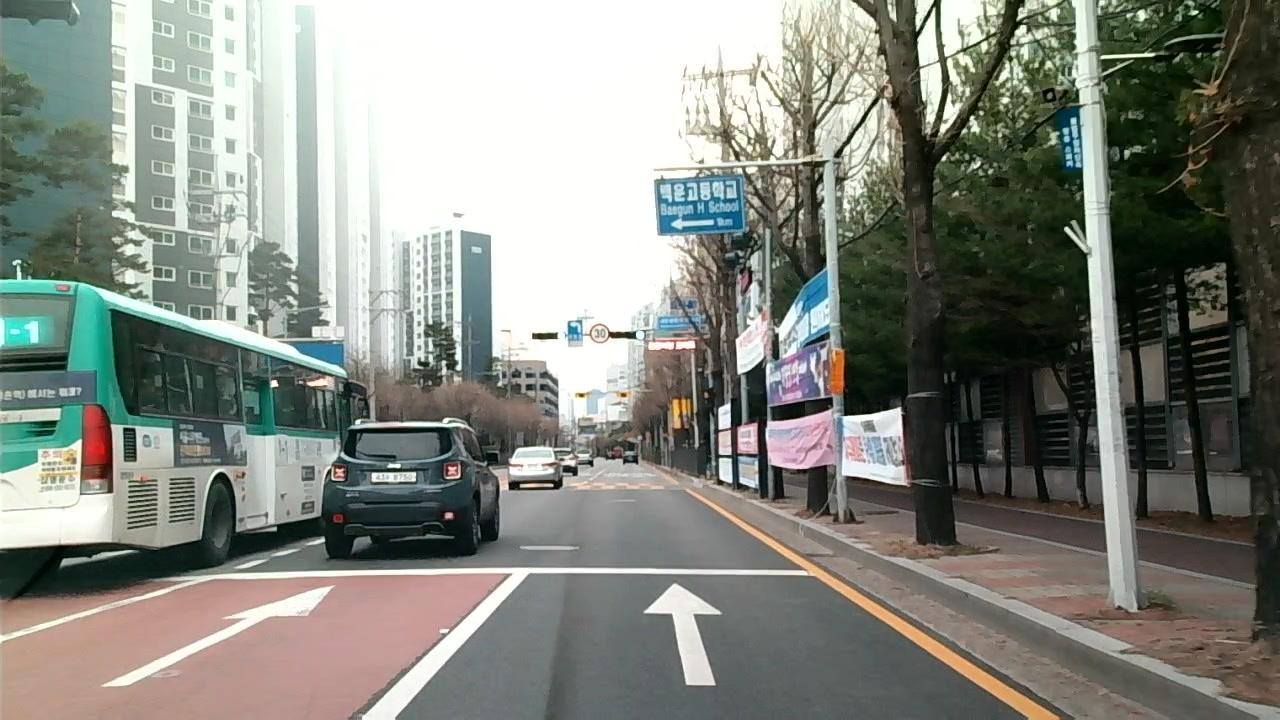banner: (763, 267, 839, 358), (834, 407, 910, 489), (760, 340, 833, 406), (760, 411, 832, 471), (726, 313, 766, 372), (732, 455, 762, 488), (732, 423, 759, 453), (708, 403, 731, 431), (713, 458, 734, 481), (714, 432, 733, 455)
